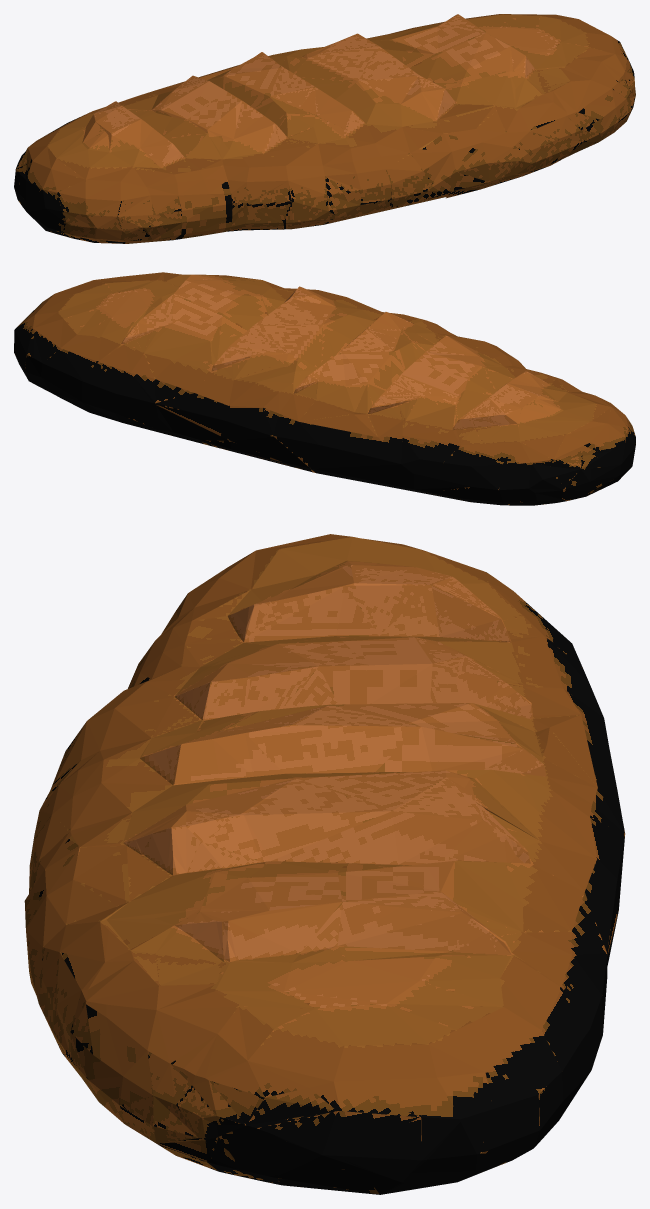
3 renders of one model, top to bottom at view 1: azimuth 30°, elevation 25°; view 2: azimuth 150°, elevation 25°; view 3: azimuth 270°, elevation 25°, orthographic. The views are drawn at different scales.
Parts seen in each view (by area): view 1: OBJ0b5; view 2: OBJ0b5; view 3: OBJ0b5.
Boxes of the visible parts, box(x1,y1,x2,y2) form: OBJ0b5: box(14, 14, 635, 243); OBJ0b5: box(14, 272, 635, 505); OBJ0b5: box(24, 534, 625, 1194).
Bounding box in the file's own units: 0.3137 × 0.0432 × 0.1387.
1 material, 1 textured.
